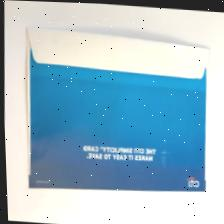paper: (11, 13, 220, 224)
